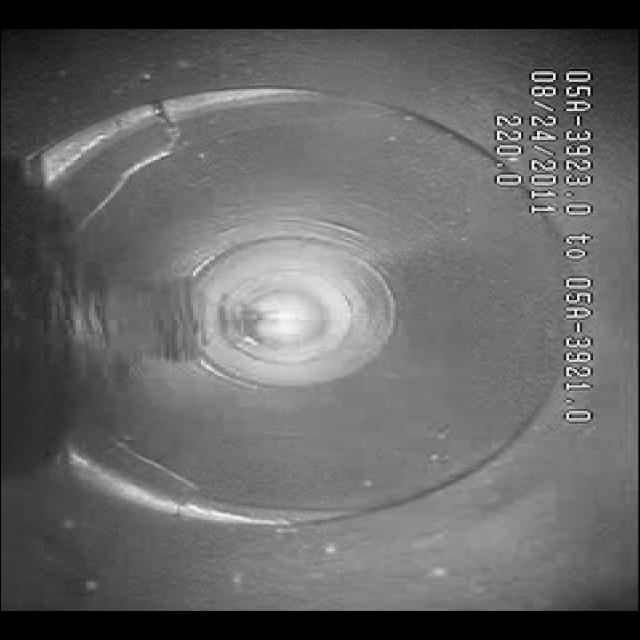Crack: (84, 113, 202, 220)
